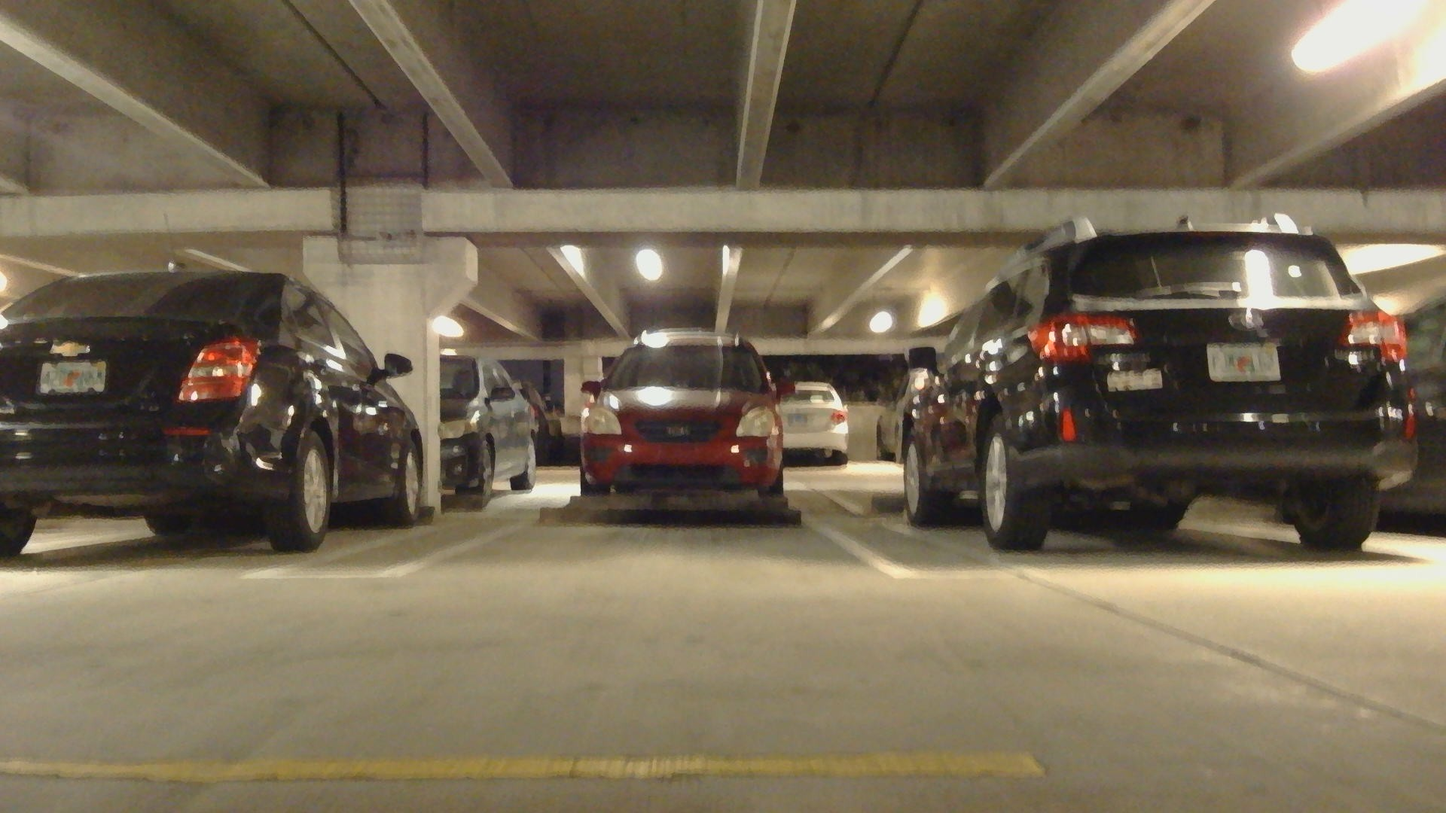empty_spot: (367, 505, 942, 572)
occupied_spot: (865, 208, 1446, 572), (0, 262, 429, 575)
